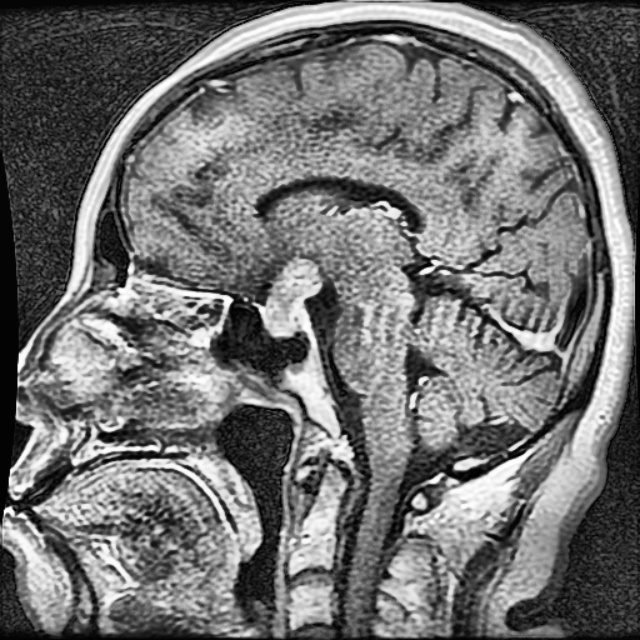Pituitary: (260, 260, 319, 338)
